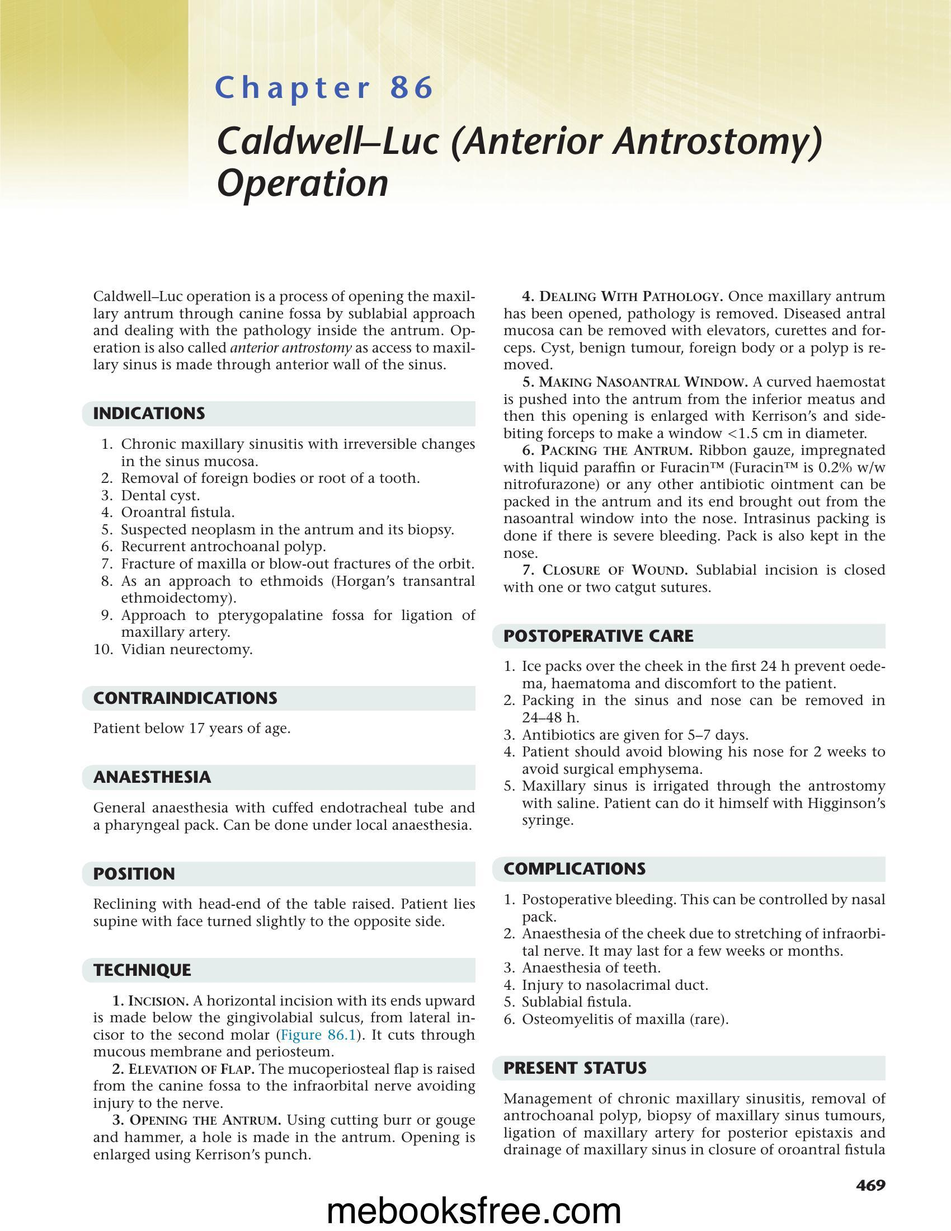chapter-heading: (216, 121, 824, 208)
list: (503, 289, 885, 597), (94, 436, 476, 659), (502, 658, 887, 831), (93, 994, 476, 1165), (501, 890, 888, 1029)
section-heading: (502, 628, 695, 643), (92, 690, 278, 705), (502, 860, 647, 876), (503, 1060, 647, 1075), (92, 768, 213, 785), (92, 404, 206, 420), (92, 962, 192, 978), (92, 866, 176, 880)
text: (92, 289, 476, 374), (501, 1091, 887, 1161), (92, 897, 476, 931), (92, 801, 475, 834), (92, 720, 291, 737)
